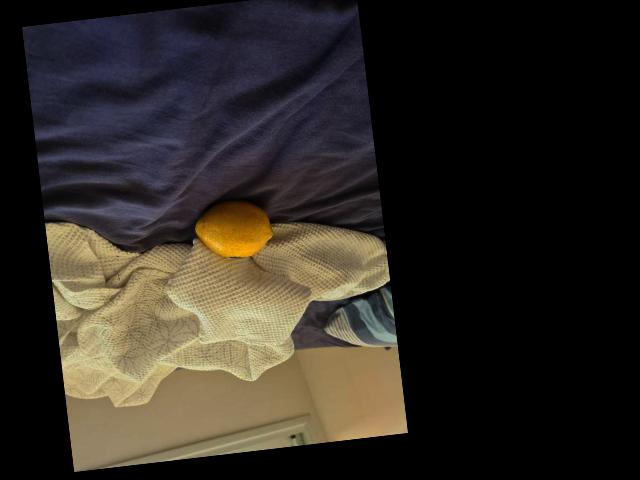lemon: (190, 195, 273, 262)
